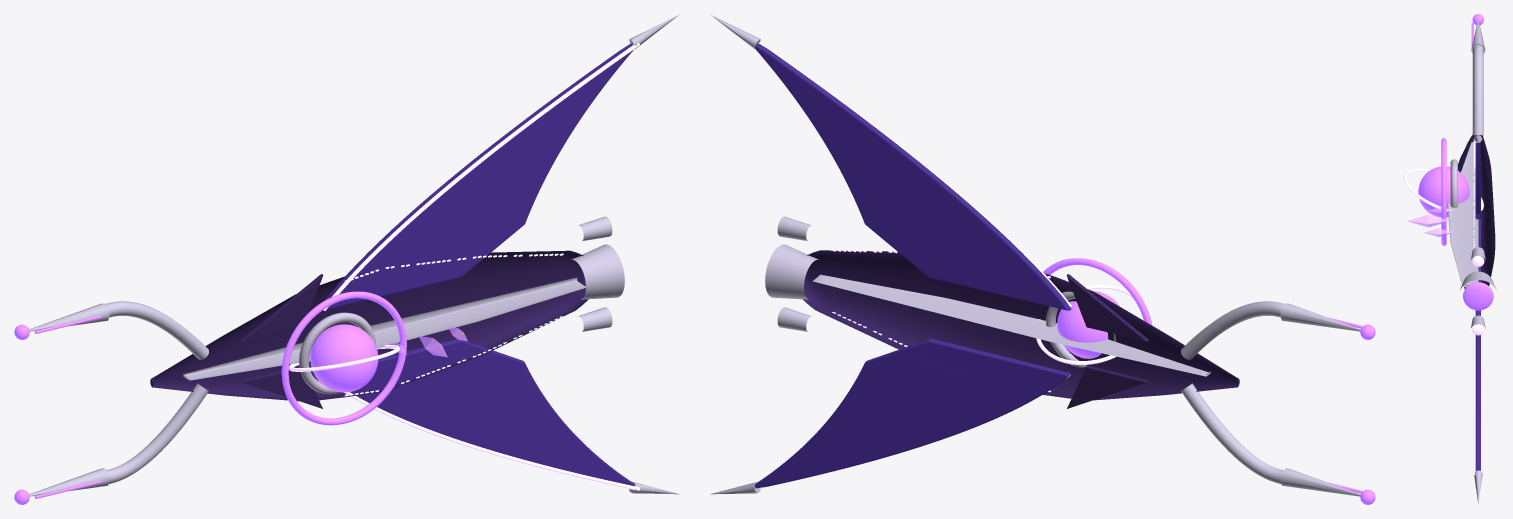
File: acheron.glb
3 renders of one model, left to right at view 1: azimuth 30°, elevation 25°; view 2: azimuth 150°, elevation 25°; view 3: azimuth 270°, elevation 25°, orthographic. The views are drawn at different scales.
Parts seen in each view (by area): view 1: wing_L, hull, wing_R, keel, core, ring, drive, bident_arm_R, wing_L_edge, canard_L, bident_arm_L, core_cradle (+4 smaller); view 2: wing_L, hull, wing_R, keel, drive, bident_arm_R, canard_L, bident_arm_L, canard_R, core, ring, prong_L (+2 smaller); view 3: keel, hull, core, bident_arm_L, wing_R, drive_glow, ring, wing_L, wing_R_edge, core_cradle, crystal_0, ring2 (+5 smaller).
Part boxes in pixels (bbox=[...]): wing_L: bbox=[324, 43, 633, 309]; hull: bbox=[150, 250, 588, 401]; wing_R: bbox=[350, 339, 634, 486]; keel: bbox=[183, 277, 585, 380]; core: bbox=[310, 324, 378, 392]; ring: bbox=[281, 291, 406, 425]; drive: bbox=[571, 244, 624, 299]; bident_arm_R: bbox=[106, 383, 208, 483]; wing_L_edge: bbox=[324, 42, 639, 310]; canard_L: bbox=[240, 274, 323, 341]; bident_arm_L: bbox=[105, 301, 208, 359]; core_cradle: bbox=[299, 312, 375, 394]; wing_L: bbox=[755, 43, 1071, 310]; hull: bbox=[803, 250, 1239, 400]; wing_R: bbox=[754, 338, 1071, 488]; keel: bbox=[812, 274, 1210, 376]; drive: bbox=[765, 244, 818, 299]; bident_arm_R: bbox=[1181, 383, 1283, 483]; canard_L: bbox=[1066, 274, 1149, 341]; bident_arm_L: bbox=[1181, 301, 1284, 359]; canard_R: bbox=[1067, 365, 1148, 408]; core: bbox=[1057, 291, 1118, 358]; ring: bbox=[1043, 258, 1152, 325]; prong_L: bbox=[1280, 303, 1360, 331]; keel: bbox=[1447, 141, 1478, 287]; hull: bbox=[1458, 134, 1495, 288]; core: bbox=[1418, 166, 1469, 217]; bident_arm_L: bbox=[1472, 45, 1483, 135]; wing_R: bbox=[1475, 219, 1480, 470]; drive_glow: bbox=[1463, 282, 1493, 310]; ring: bbox=[1441, 138, 1446, 245]; wing_L: bbox=[1475, 143, 1480, 219]; wing_R_edge: bbox=[1473, 310, 1475, 475]; core_cradle: bbox=[1450, 159, 1457, 207]; crystal_0: bbox=[1407, 214, 1449, 227]; ring2: bbox=[1404, 168, 1483, 211].
Size of the model in its own units: 675 by 466 by 111.
